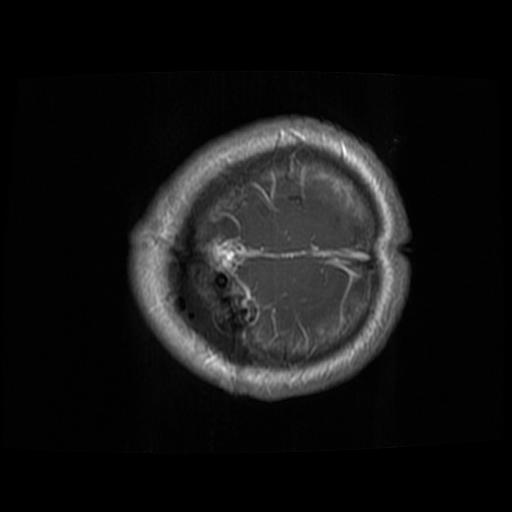glioma: (169, 208, 246, 356)
